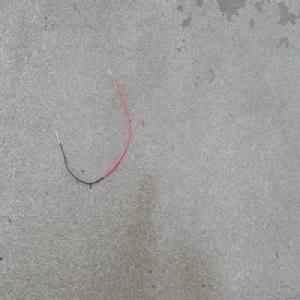Wire: (54, 68, 132, 187)
